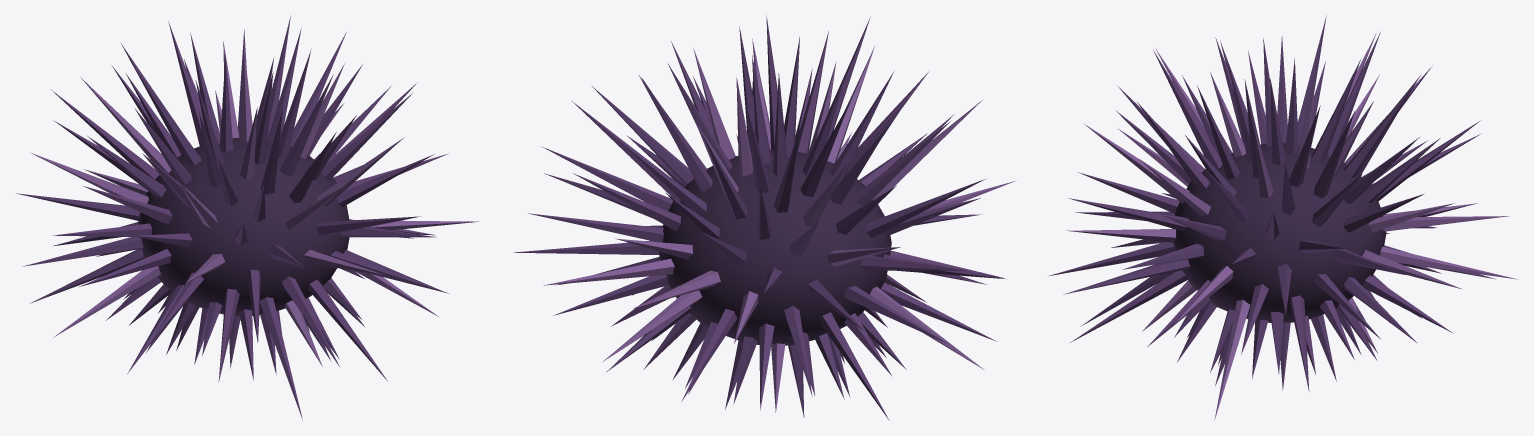
The model's file is sea-sea-urchin.glb.
3 renders of one model, left to right at view 1: azimuth 30°, elevation 25°; view 2: azimuth 150°, elevation 25°; view 3: azimuth 270°, elevation 25°, orthographic. The views are drawn at different scales.
Parts seen in each view (by area): view 1: urchin; view 2: urchin; view 3: urchin.
Boxes of the visible parts, x1,y1,x2,y2 form: urchin: (16, 15, 478, 420); urchin: (514, 14, 1015, 420); urchin: (1048, 15, 1518, 420).
Size of the model in its own units: 0.3253 by 0.2382 by 0.3302.
